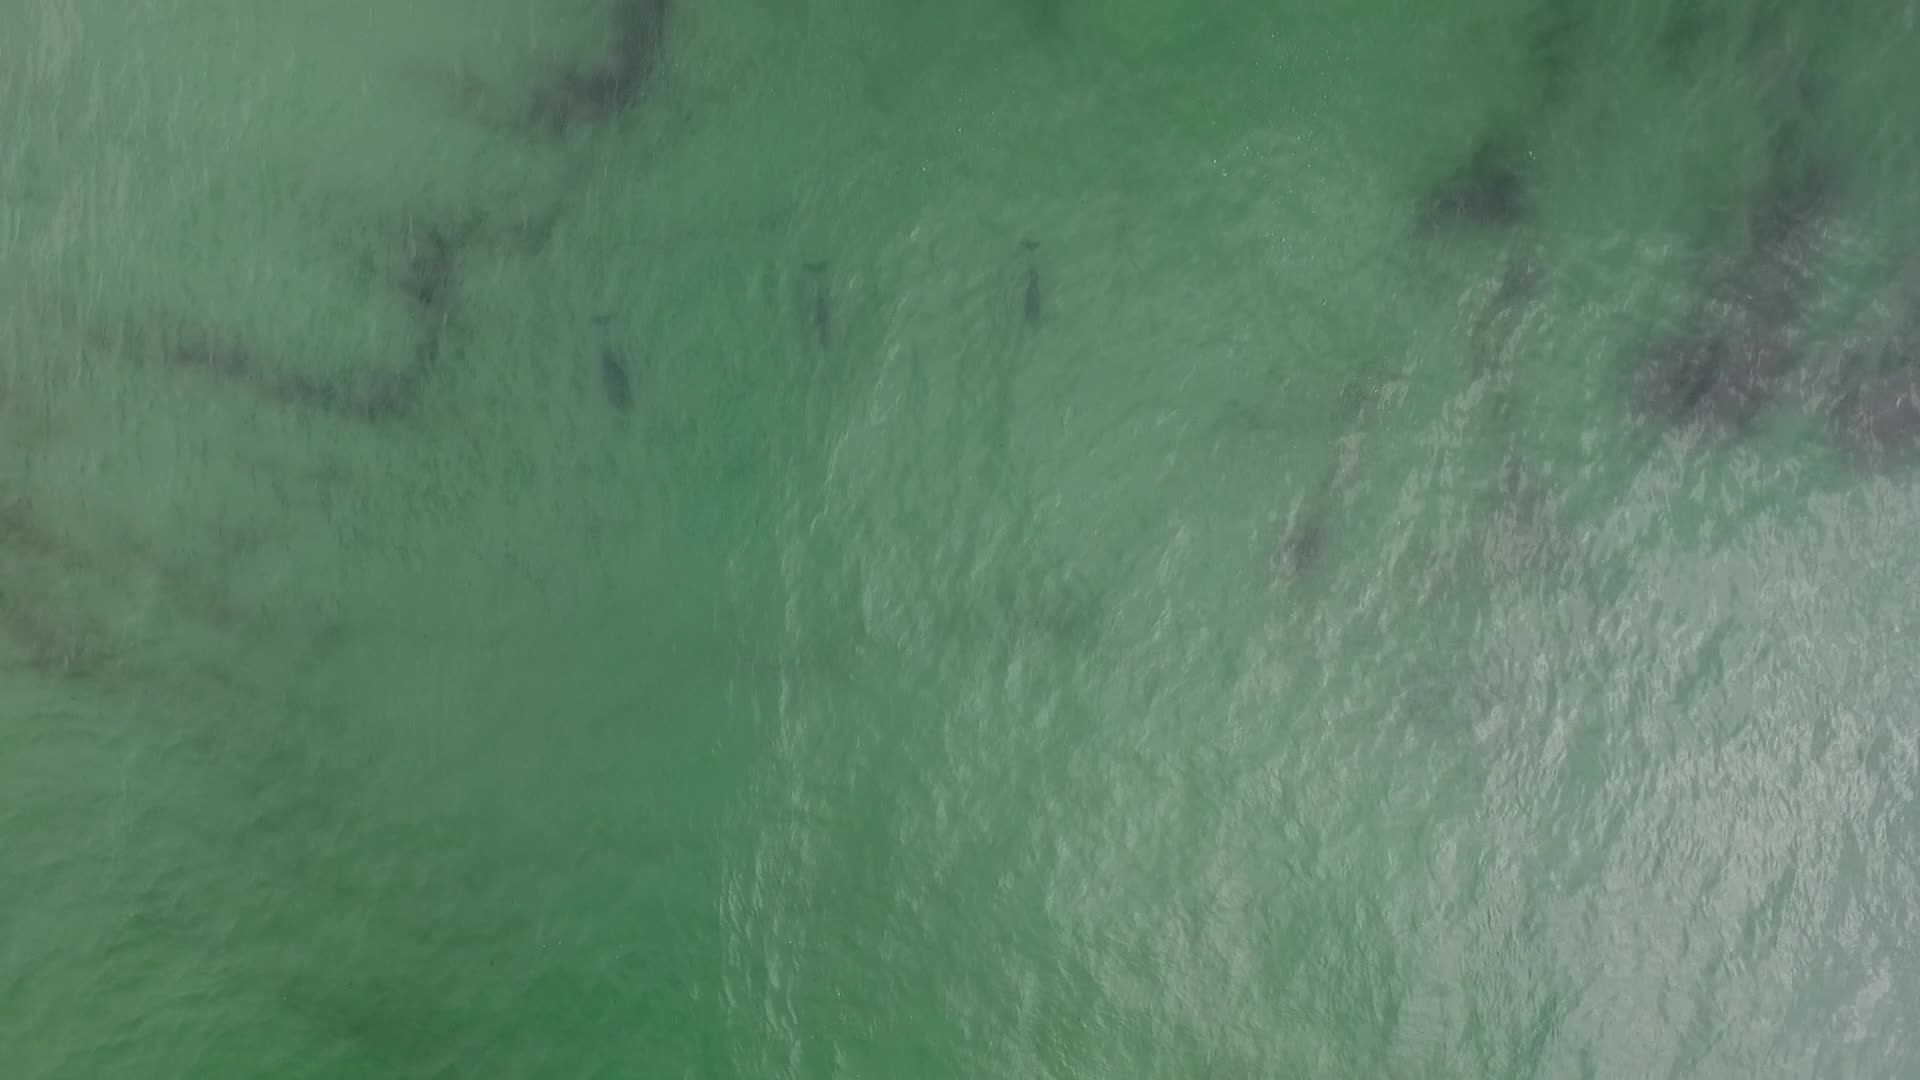dolphin: (570, 295, 647, 436), (777, 252, 848, 367), (1001, 222, 1062, 347)
